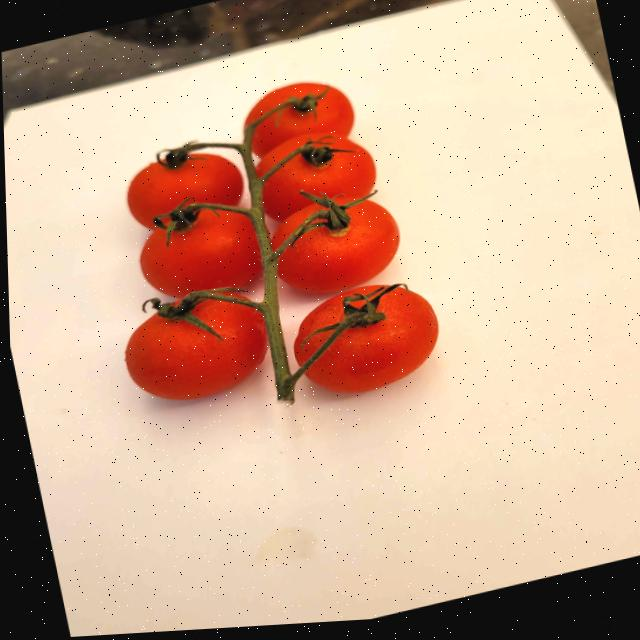ripe2: (293, 283, 438, 393), (125, 299, 268, 400), (277, 200, 399, 293), (140, 210, 261, 297), (256, 133, 375, 221), (127, 153, 243, 229), (244, 82, 354, 158), (271, 203, 323, 246)
